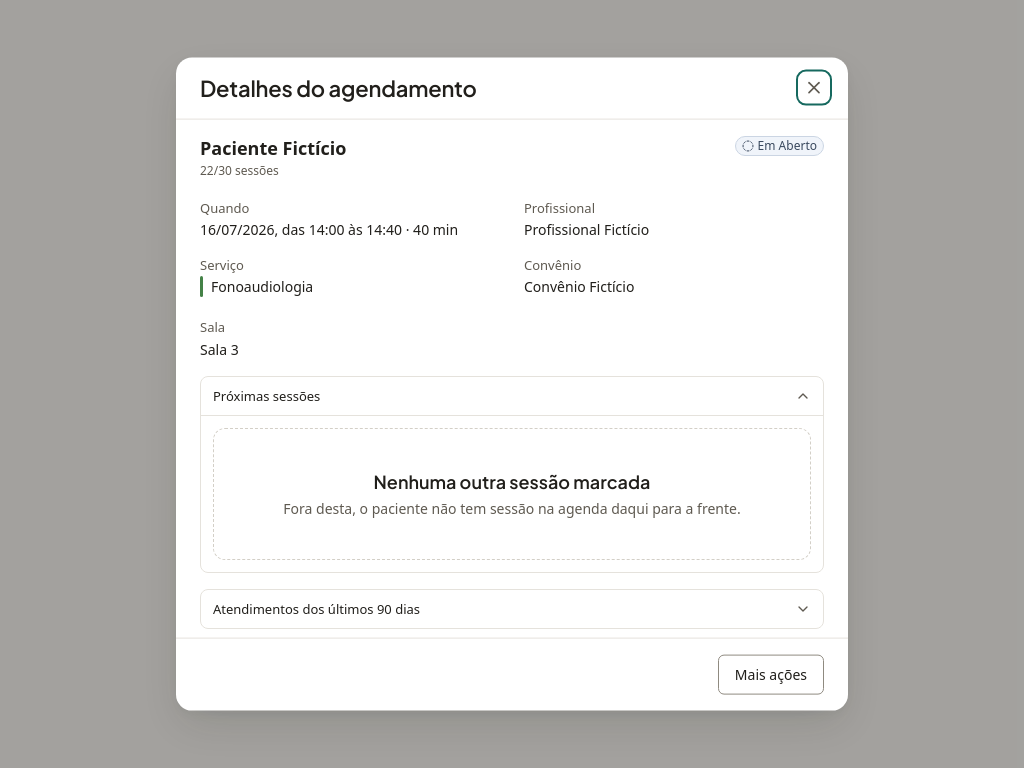
Test case: PainelAgendamento — ações derivadas do status/estado/permissão (3.2) › deve mostrar a recusa do servidor DENTRO do diálogo ao excluir um agendamento protegido
Click the button "Mais ações" at (771, 674), box [718, 654, 824, 694]
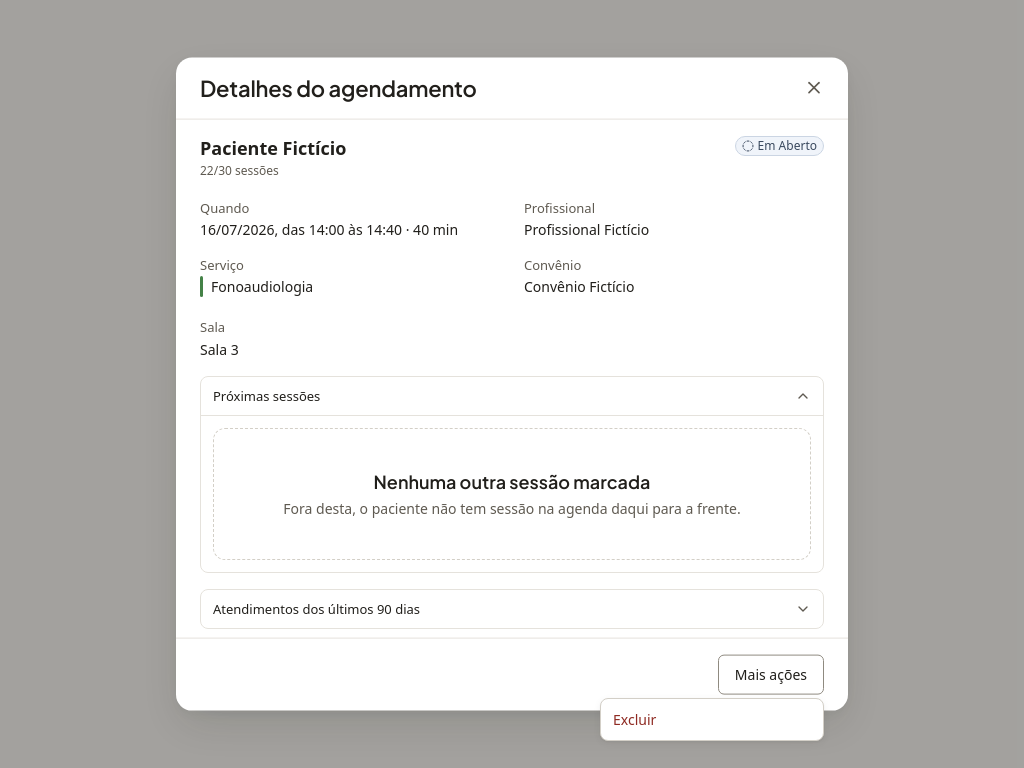
Click the menu item "Excluir" at (635, 720), box [613, 710, 656, 729]
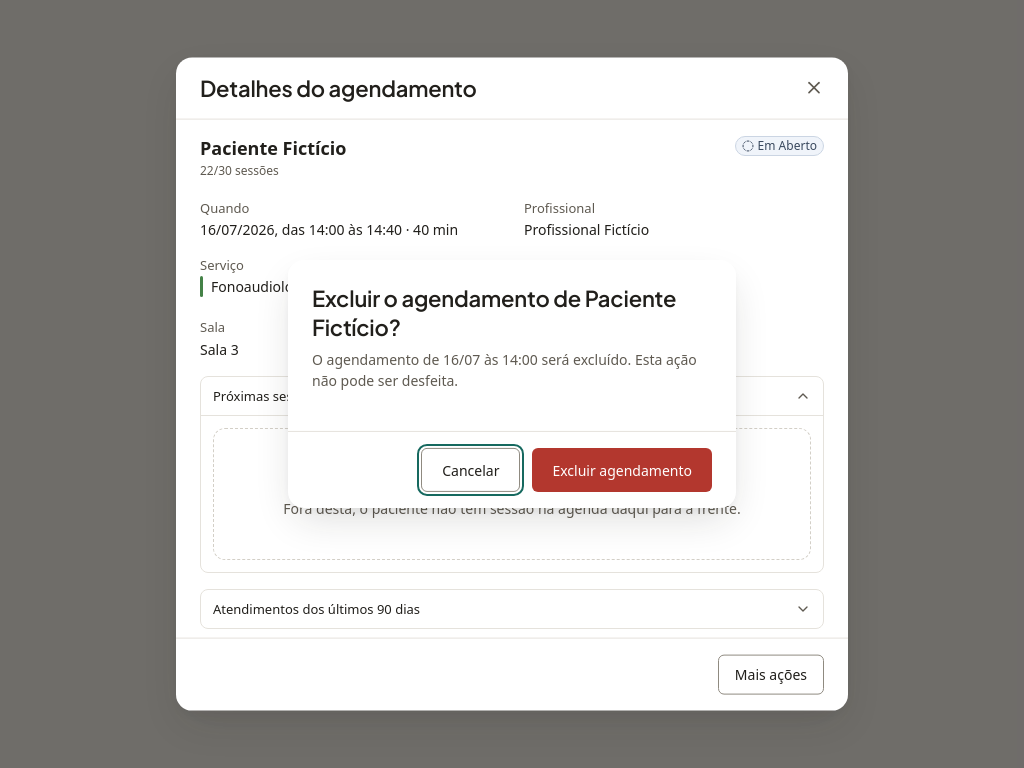
Click the button "Excluir agendamento" at (622, 470), box [532, 448, 712, 492]
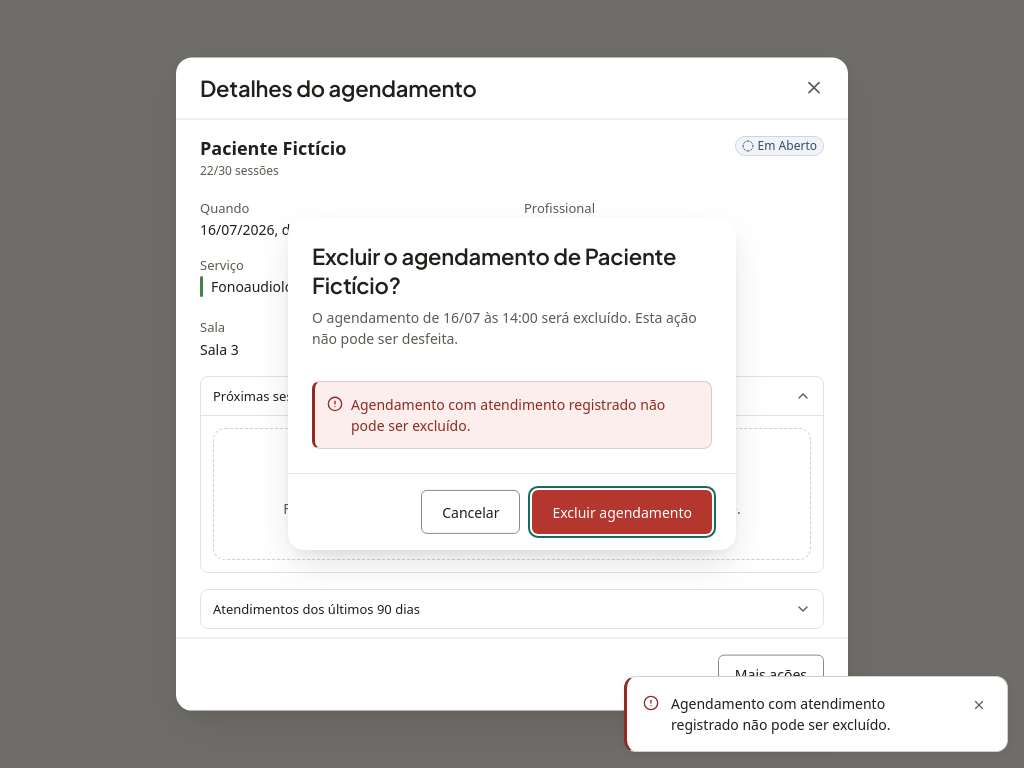
Expected: the 1st text "não pode ser excluído" is shown, [351, 395, 665, 435]
